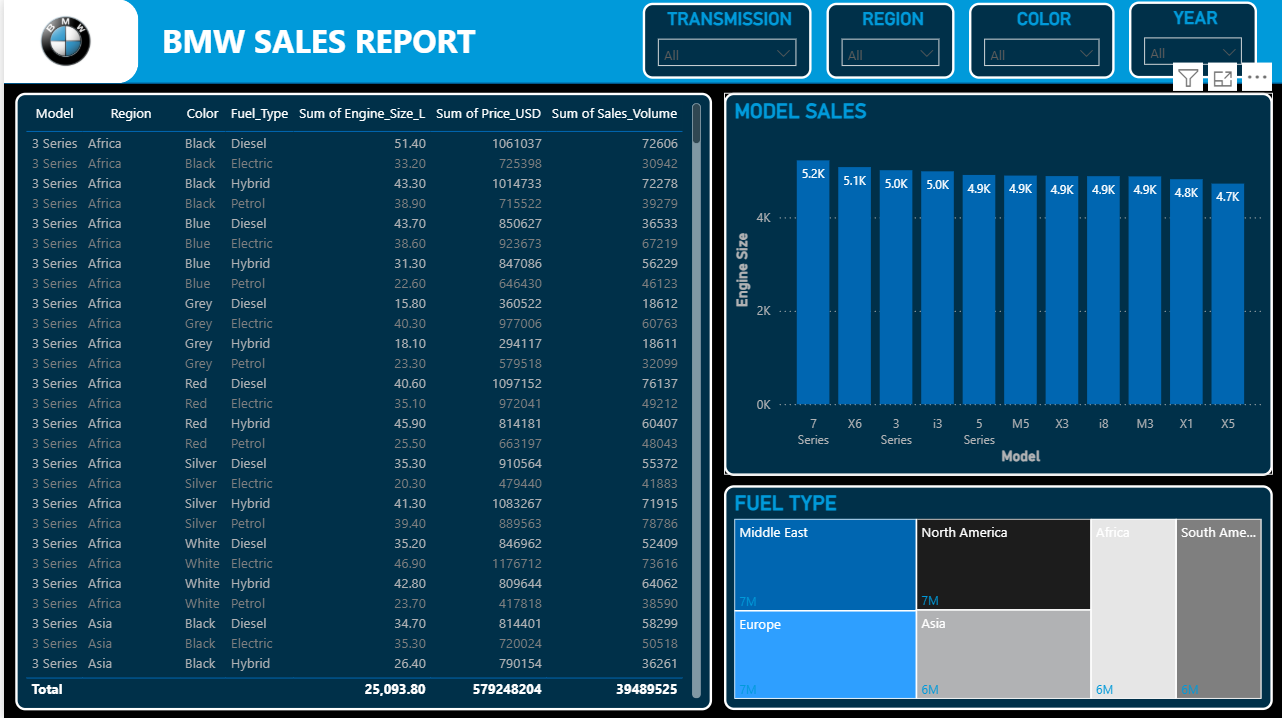

This screenshot's page, from the dashboard's own definition file:
{"tool":"powerbi","page":{"name":"Details","canvas":[1280,720],"ordinal":1},"visuals":[{"type":"shape","title":"LogoBBg","box":[0,0,1280.3,84.6],"z":0},{"type":"shape","title":"LogoWBg","box":[0,0,134.5,84.4],"z":1000},{"type":"image","title":"Logo","box":[0,0,123.5,84.4],"z":2000},{"type":"textbox","box":[134.3,14.8,370.8,88.7],"z":4000},{"type":"slicer","title":"REGION","fields":{"Values":["BMW sales data (2010-2024).Region"]},"box":[708.3,4.9,128.4,75.8],"z":9000},{"type":"slicer","title":"TRANSMISSION","fields":{"Values":["BMW sales data (2010-2024).Transmission"]},"box":[525.1,4.9,168.8,75.8],"z":10000},{"type":"slicer","title":"COLOR","fields":{"Values":["BMW sales data (2010-2024).Color"]},"box":[851.1,4.9,145.5,75.8],"z":11000},{"type":"slicer","title":"YEAR","fields":{"Values":["BMW sales data (2010-2024).Year"]},"box":[1010.5,3.7,128.4,77],"z":12000},{"type":"columnChart","title":"MODEL SALES","fields":{"Category":["BMW sales data (2010-2024).Model"],"Y":["Sum(BMW sales data (2010-2024).Engine_Size_L)"]},"box":[720.4,93.3,548.9,382.8],"z":14000},{"type":"tableEx","title":"MODEL SALES","fields":{"Values":["BMW sales data (2010-2024).Model","BMW sales data (2010-2024).Region","BMW sales data (2010-2024).Color","BMW sales data (2010-2024).Fuel_Type","Sum(BMW sales data (2010-2024).Engine_Size_L)","Sum(BMW sales data (2010-2024).Price_USD)","Sum(BMW sales data (2010-2024).Sales_Volume)"]},"box":[11,93.3,697.1,617.5],"z":15000},{"type":"treemap","title":"FUEL TYPE","fields":{"Group":["BMW sales data (2010-2024).Region"],"Values":["Sum(BMW sales data (2010-2024).Sales_Volume)"]},"box":[720.4,485.8,548.9,225],"z":16000}]}

Visuals, with their boxes in screenshot pixels (x1, y1, x2, y2), scaled from the page's 1280x720 canvas onto the 1282x718 screenshot:
"LogoBBg" shape: select_region(0, 0, 1281, 84)
"LogoWBg" shape: select_region(0, 0, 135, 84)
"Logo" image: select_region(0, 0, 124, 84)
textbox: select_region(135, 15, 506, 103)
"REGION" slicer: select_region(709, 5, 838, 80)
"TRANSMISSION" slicer: select_region(526, 5, 695, 80)
"COLOR" slicer: select_region(852, 5, 998, 80)
"YEAR" slicer: select_region(1012, 4, 1141, 80)
"MODEL SALES" columnChart: select_region(722, 93, 1271, 475)
"MODEL SALES" tableEx: select_region(11, 93, 709, 709)
"FUEL TYPE" treemap: select_region(722, 484, 1271, 709)
